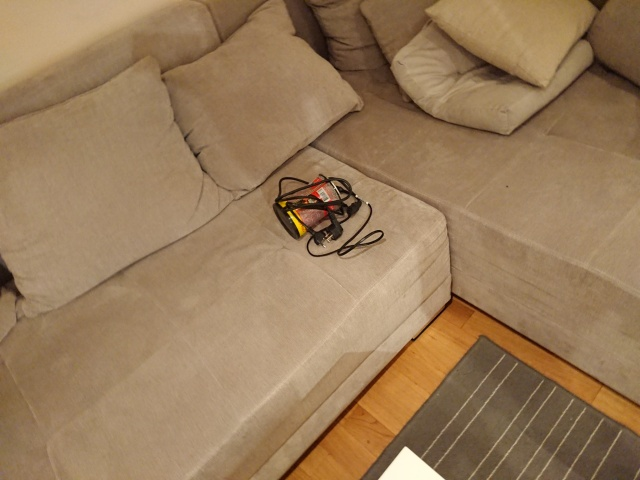Nescafe Classic 225g: (271, 172, 350, 242)
